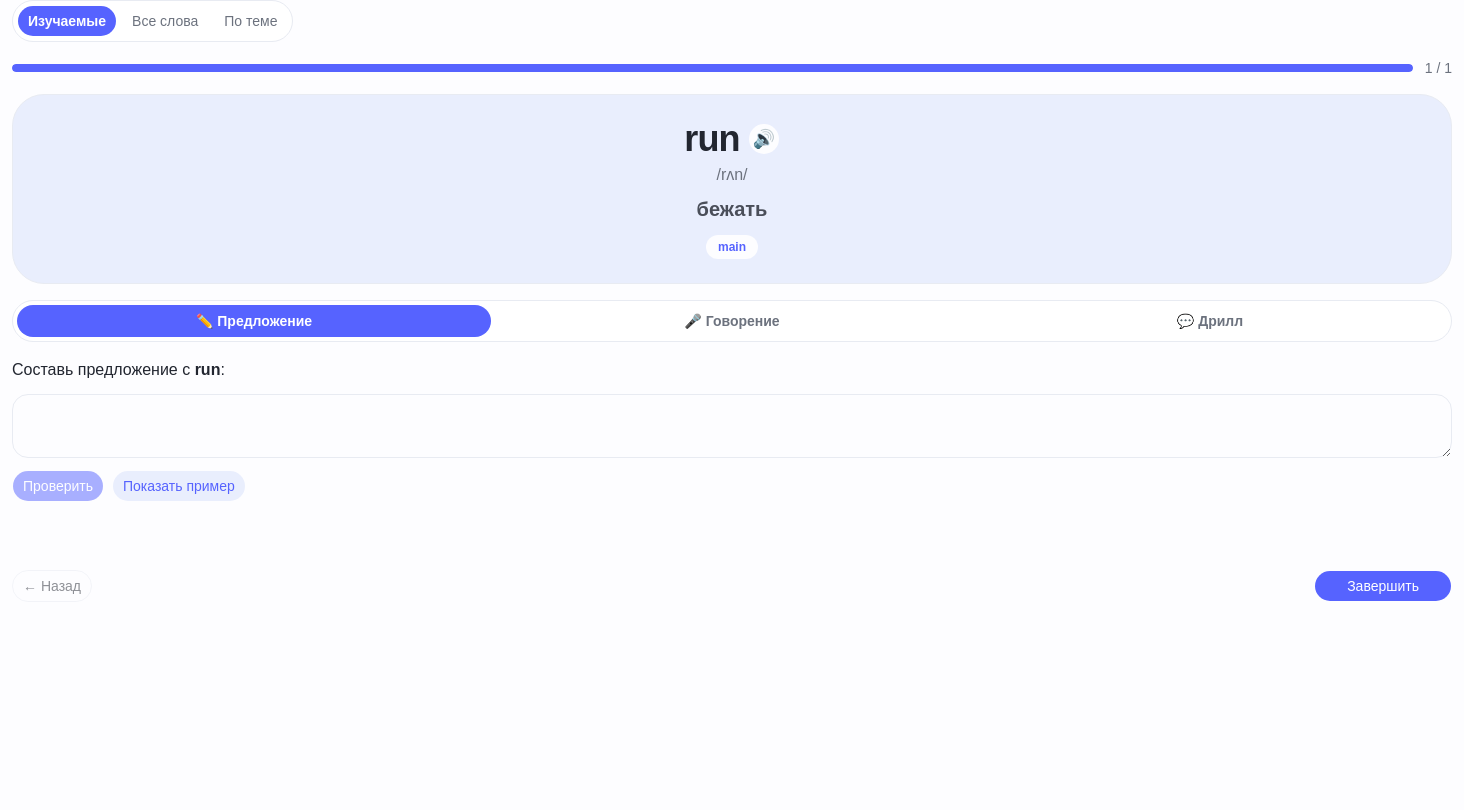
Test case: PracticePage › practises topic words after submitting a prompt
Click the button "По теме".
click(251, 21)  # box [213,5,288,37]
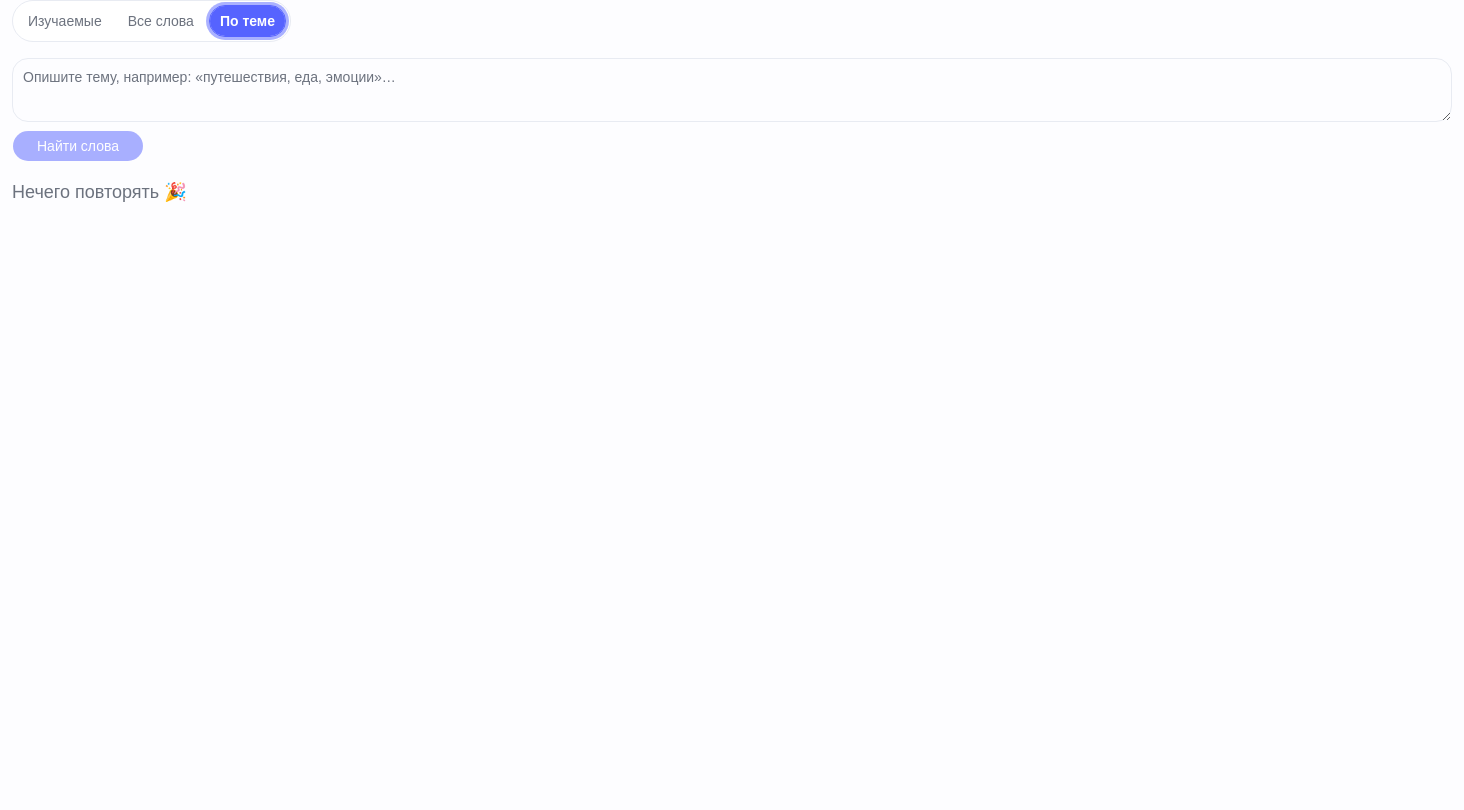
Type "travelling" into the text box.
click(732, 90); type("travelling")  # box [12,58,1452,122]
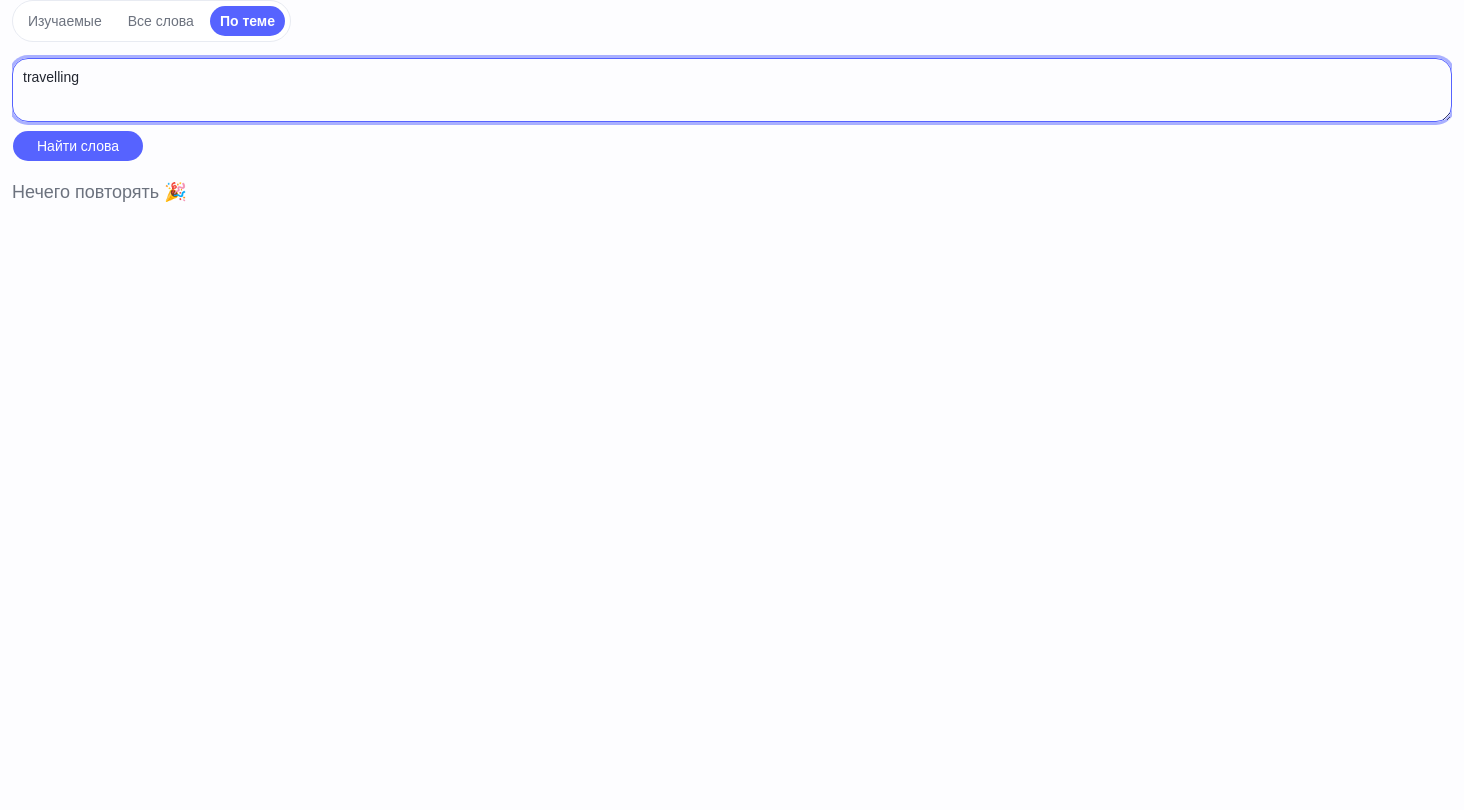
Click the button "Найти слова".
click(78, 146)  # box [12,130,144,162]
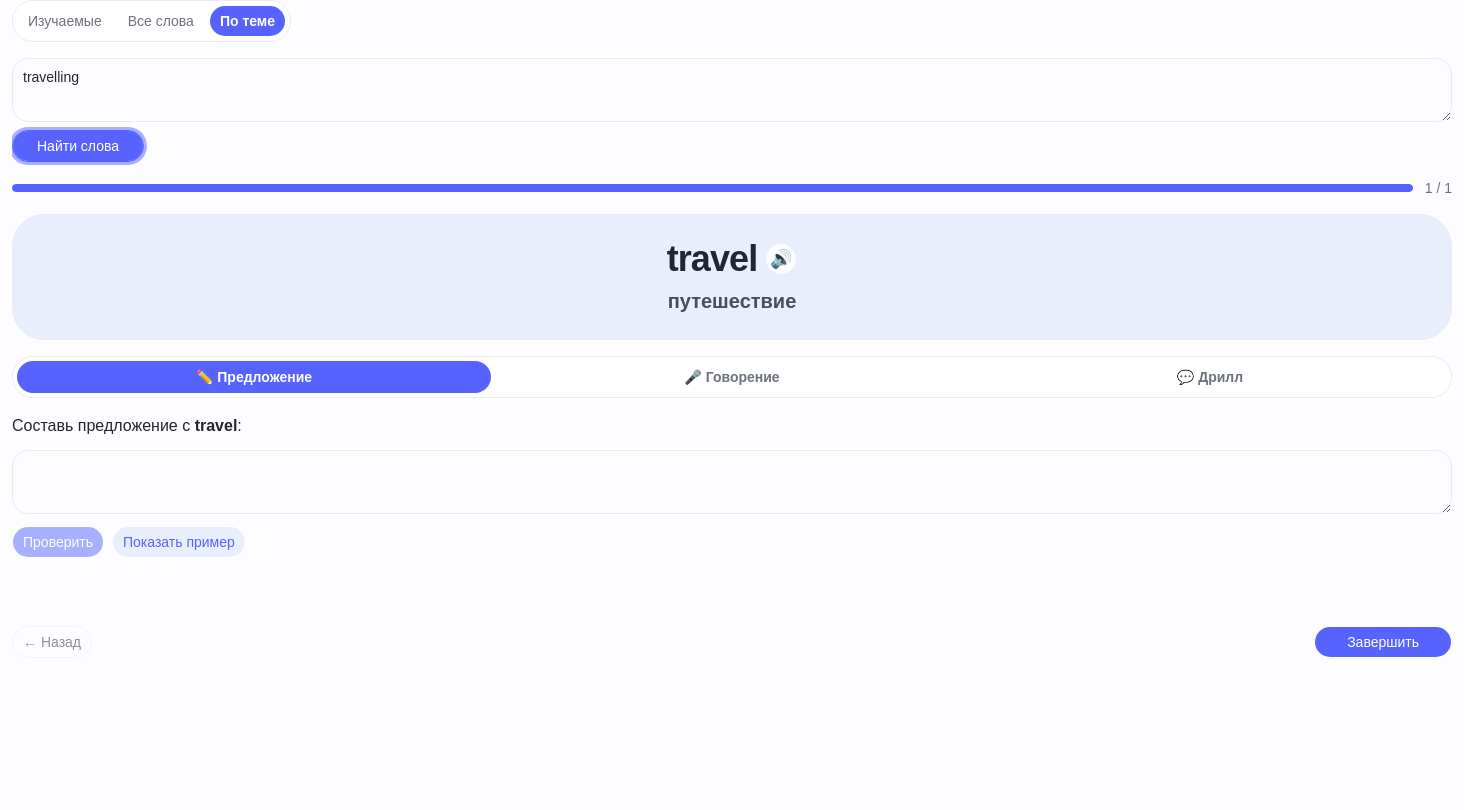
Now the 1st text "travel" is shown, box [667,239,757,279]
